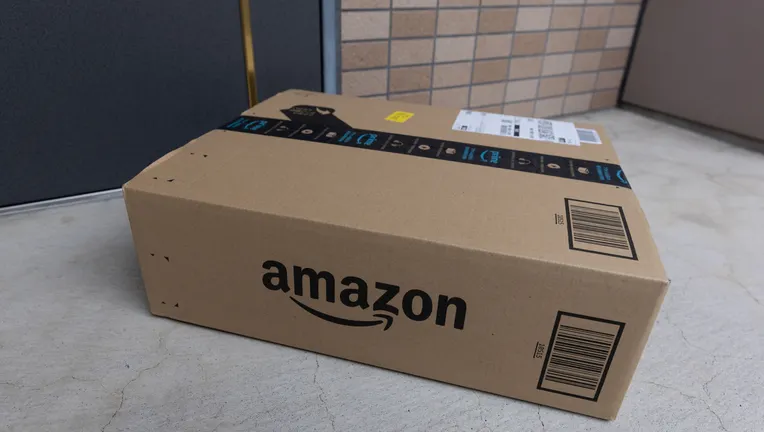package: (121, 86, 673, 425)
